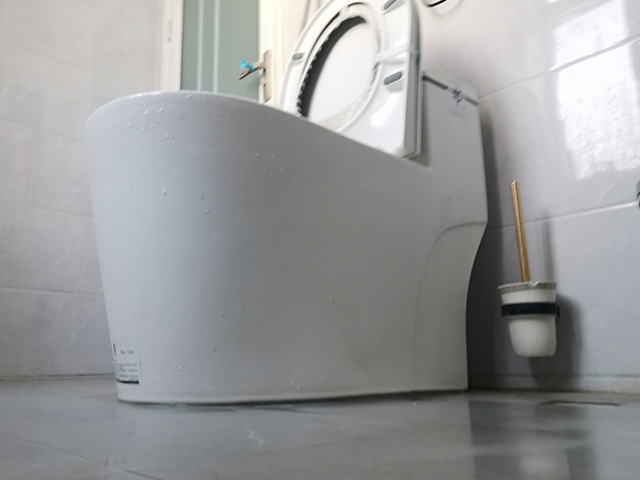closestool: (80, 1, 490, 409)
